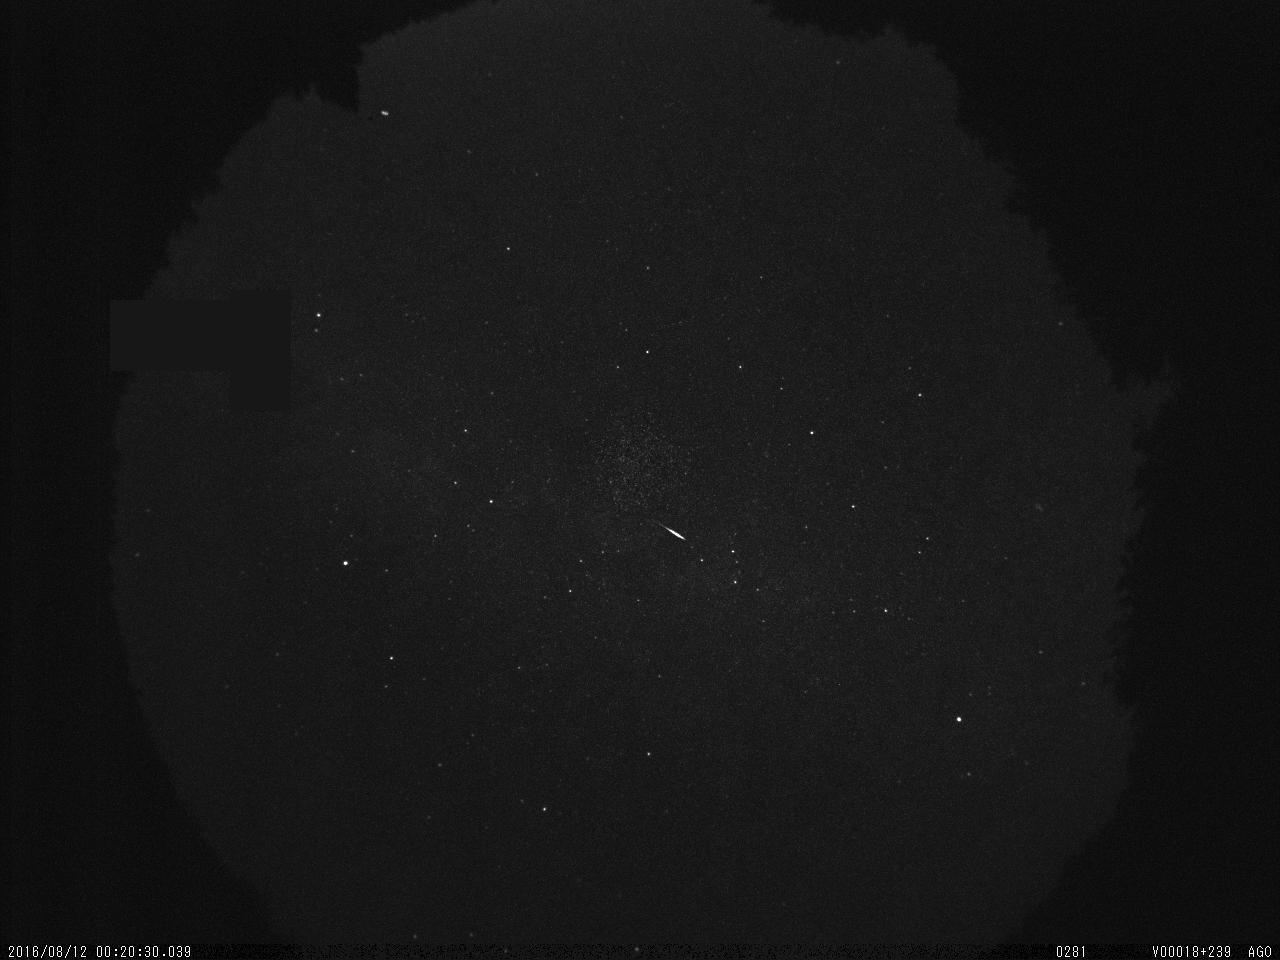Meteor: (659, 518, 692, 546)
